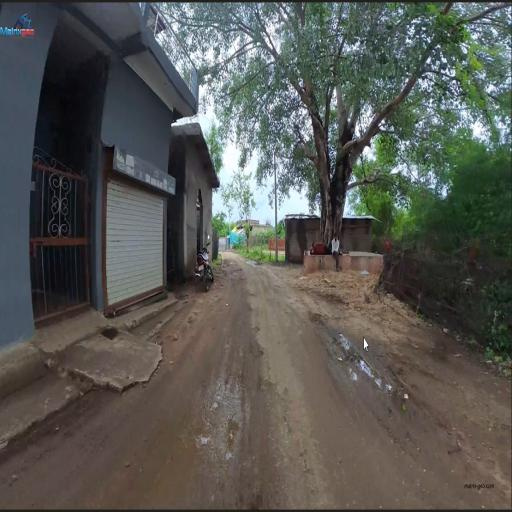pothole: (220, 399, 253, 468)
